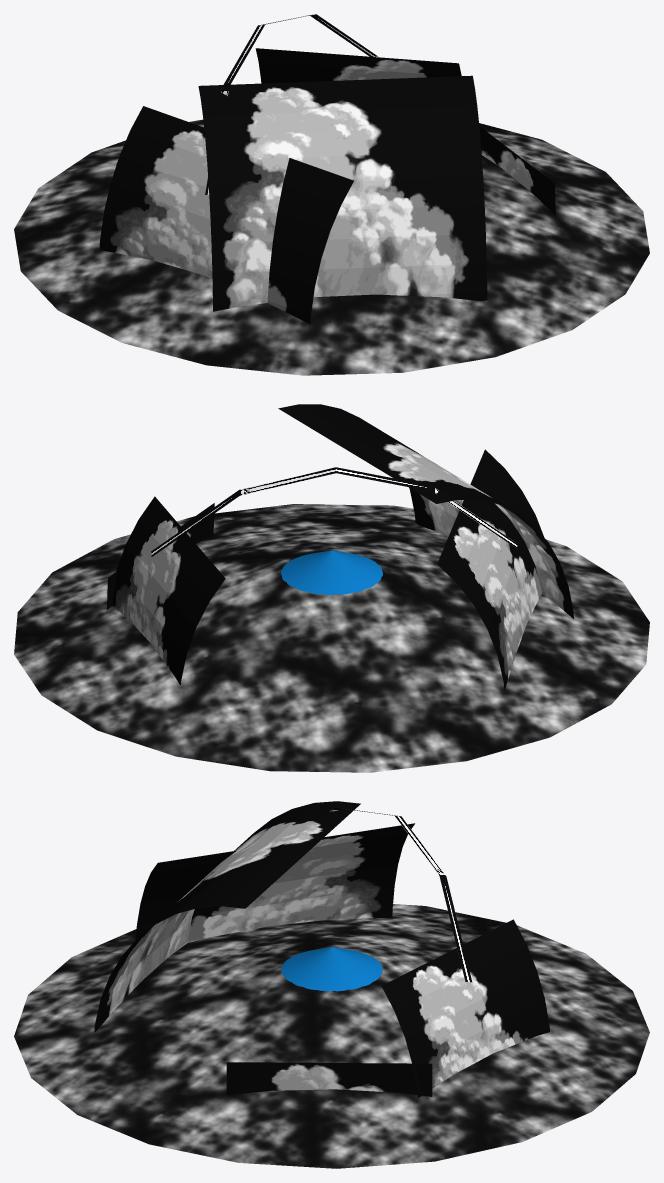
Rendered from sky.dae.
3 views of the same model, one above another, from view 1: azimuth 30°, elevation 25°; view 2: azimuth 150°, elevation 25°; view 3: azimuth 270°, elevation 25° (orthographic).
Visible parts, largest first — view 1: m2, m1, m3; view 2: m1, m2, m0, m3; view 3: m1, m2, m0, m3.
Boxes of the visible parts, x1,y1,x2,y2 form: m2: [99, 48, 555, 324]; m1: [14, 119, 649, 375]; m3: [205, 14, 377, 194]; m1: [14, 504, 649, 772]; m2: [107, 404, 573, 690]; m0: [281, 550, 382, 594]; m3: [151, 467, 517, 556]; m1: [14, 904, 649, 1168]; m2: [94, 801, 549, 1097]; m0: [281, 947, 382, 991]; m3: [329, 808, 472, 982].
Bounding box in the file's own units: 299965 × 150363 × 299965.
Materials: 5 (4 with a texture image).
